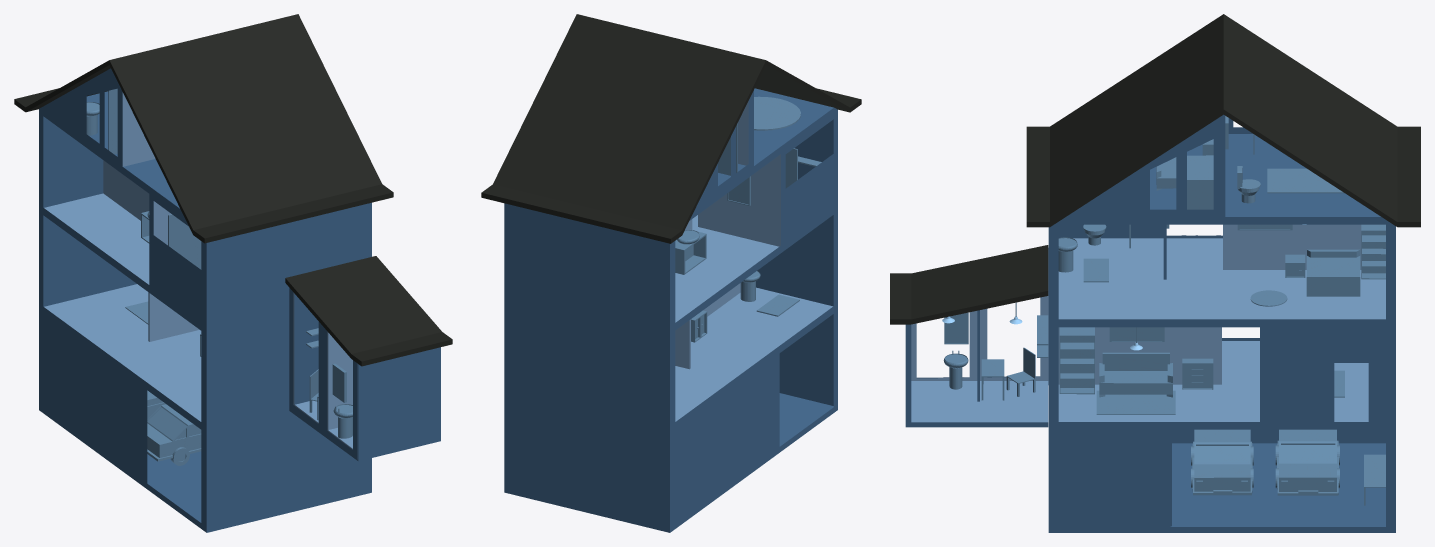
Rendered from house-kinewall2.glb.
3 renders of one model, left to right at view 1: azimuth 30°, elevation 25°; view 2: azimuth 150°, elevation 25°; view 3: azimuth 270°, elevation 25°, orthographic. The views are drawn at different scales.
Visible parts, largest first — view 1: house; view 2: house; view 3: house.
Part boxes in pixels (box(x1,y1,x2,y2)): house: box(14, 14, 452, 532); house: box(481, 14, 861, 532); house: box(890, 14, 1420, 532).
Bounding box in the file's own units: 16 × 33.5 × 37.56.
Materials: 2 (2 with a texture image).
